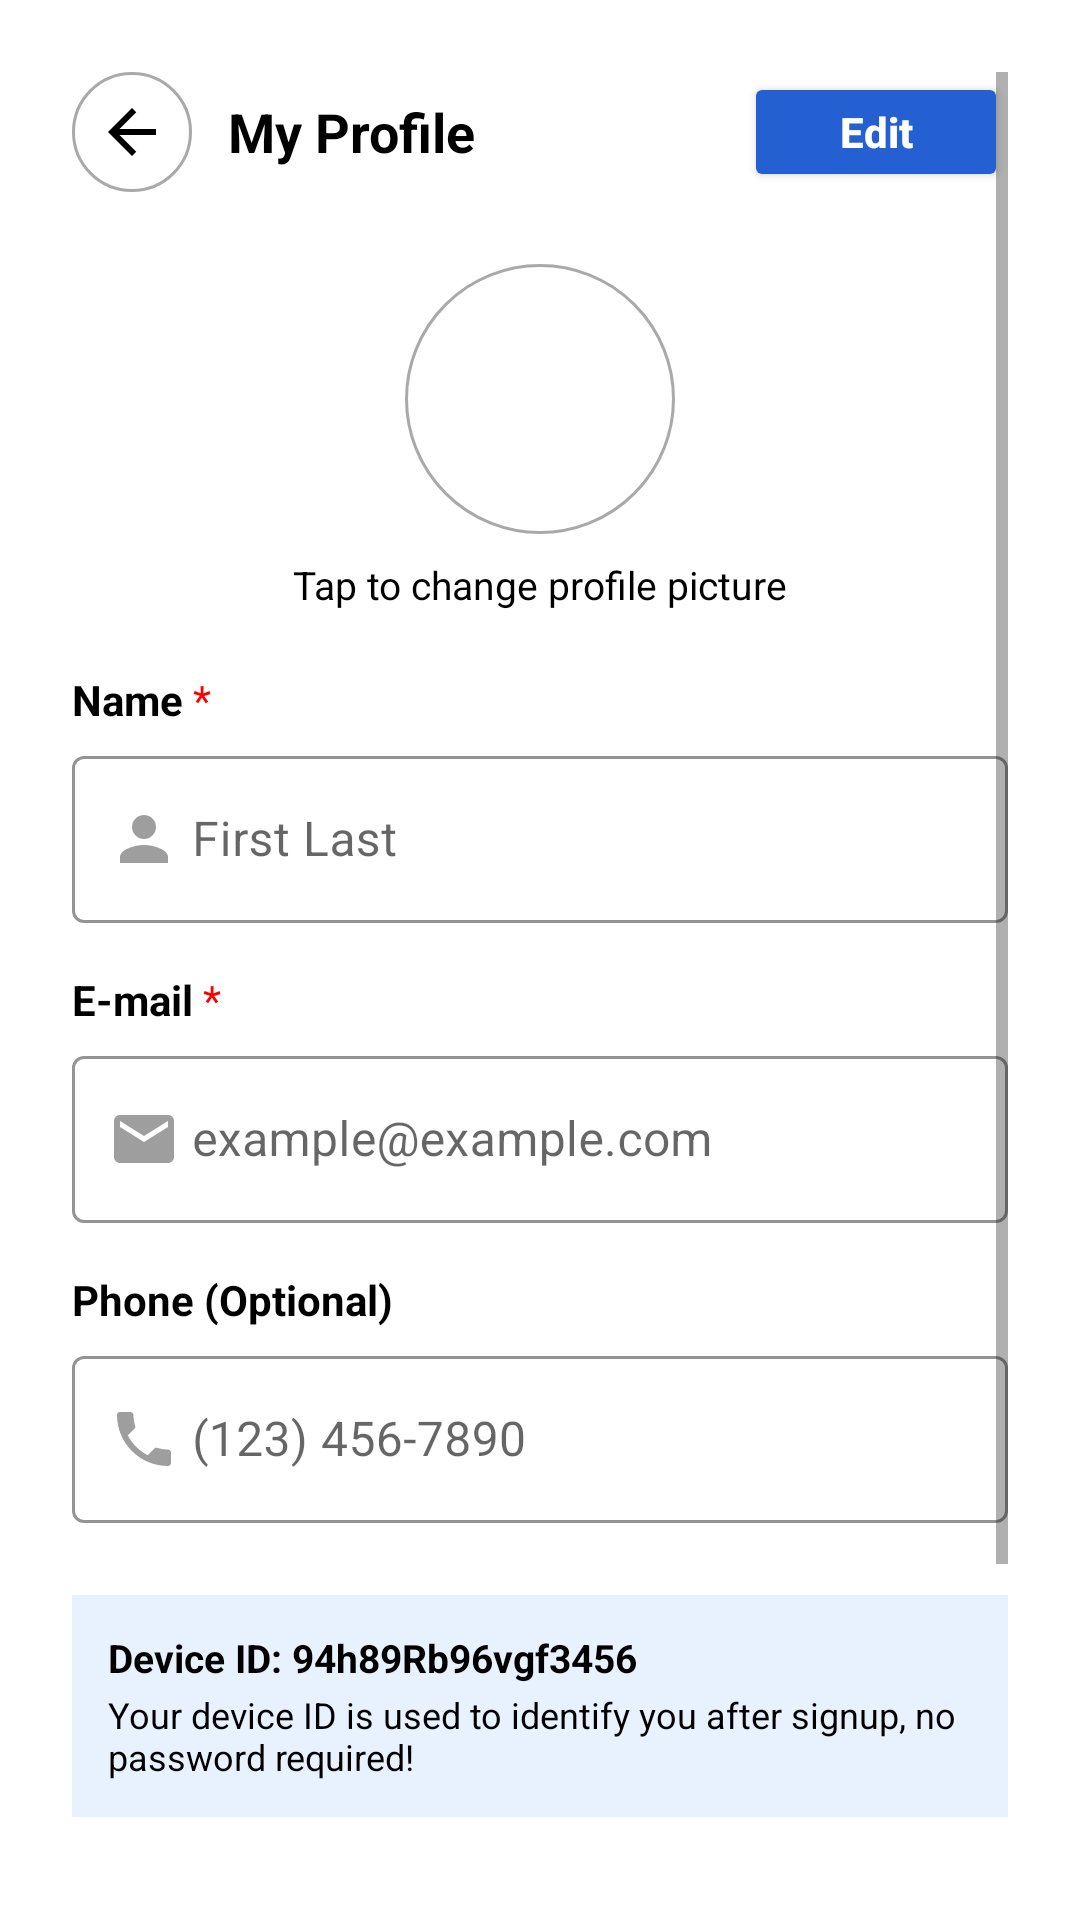

Screen size 1080px×1920px. Icon name, then its box in pixels as (x1, y1, x2, y2):
Back: (72, 72, 192, 192)
